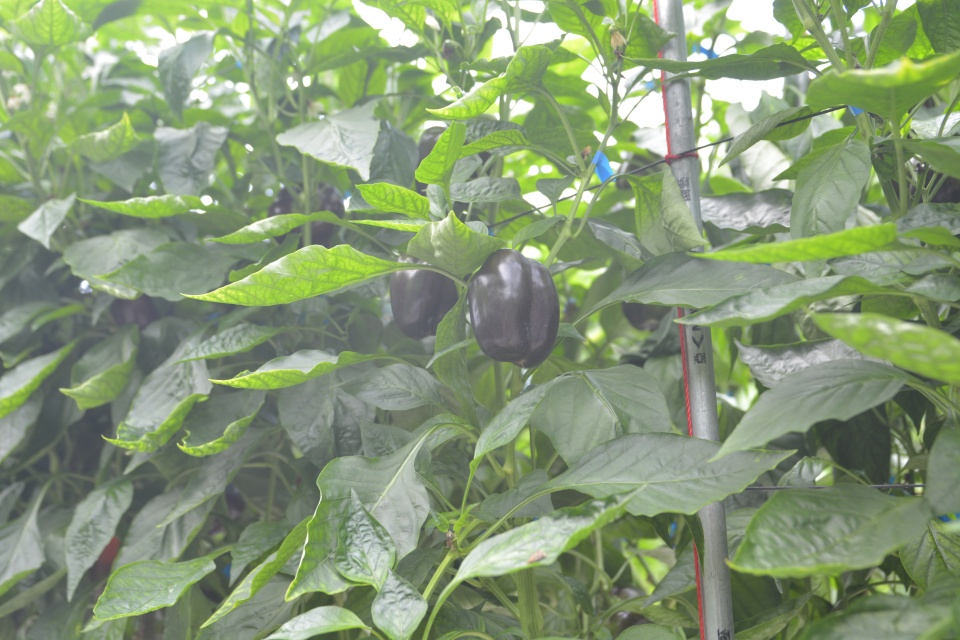flower: (604, 23, 629, 52)
fruit: (466, 244, 562, 368), (387, 252, 460, 340), (267, 178, 347, 253), (578, 583, 655, 640)
pedicle: (292, 192, 320, 213), (604, 597, 625, 607)
